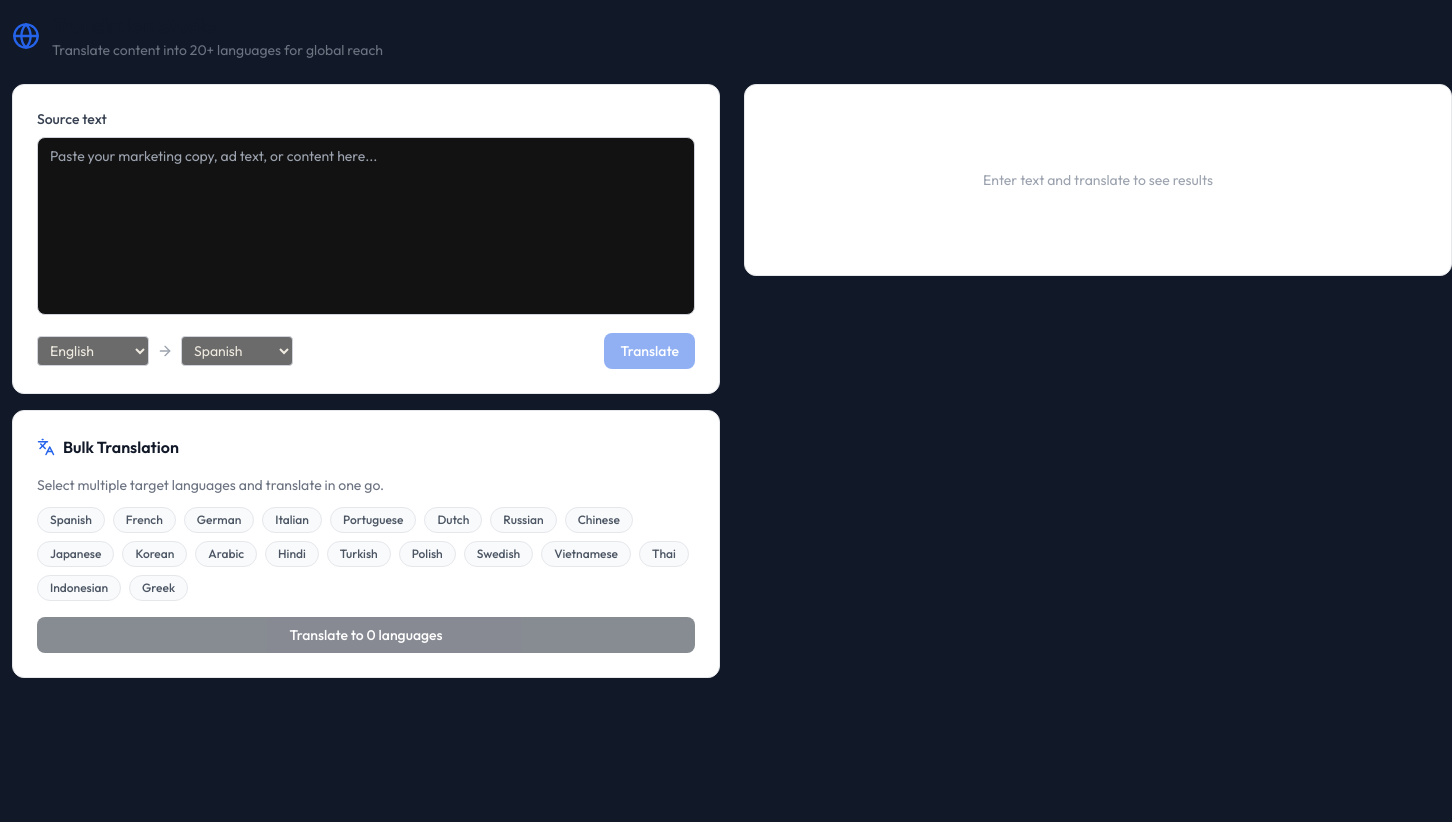
Test: visible studio failures › bulk translation errors are visible and keep selected languages for retry
Type "Keep this marketing copy" into the text box with placeholder "Paste your marketing copy, ad text, or content here..." at [366, 226], box [37, 137, 695, 315]
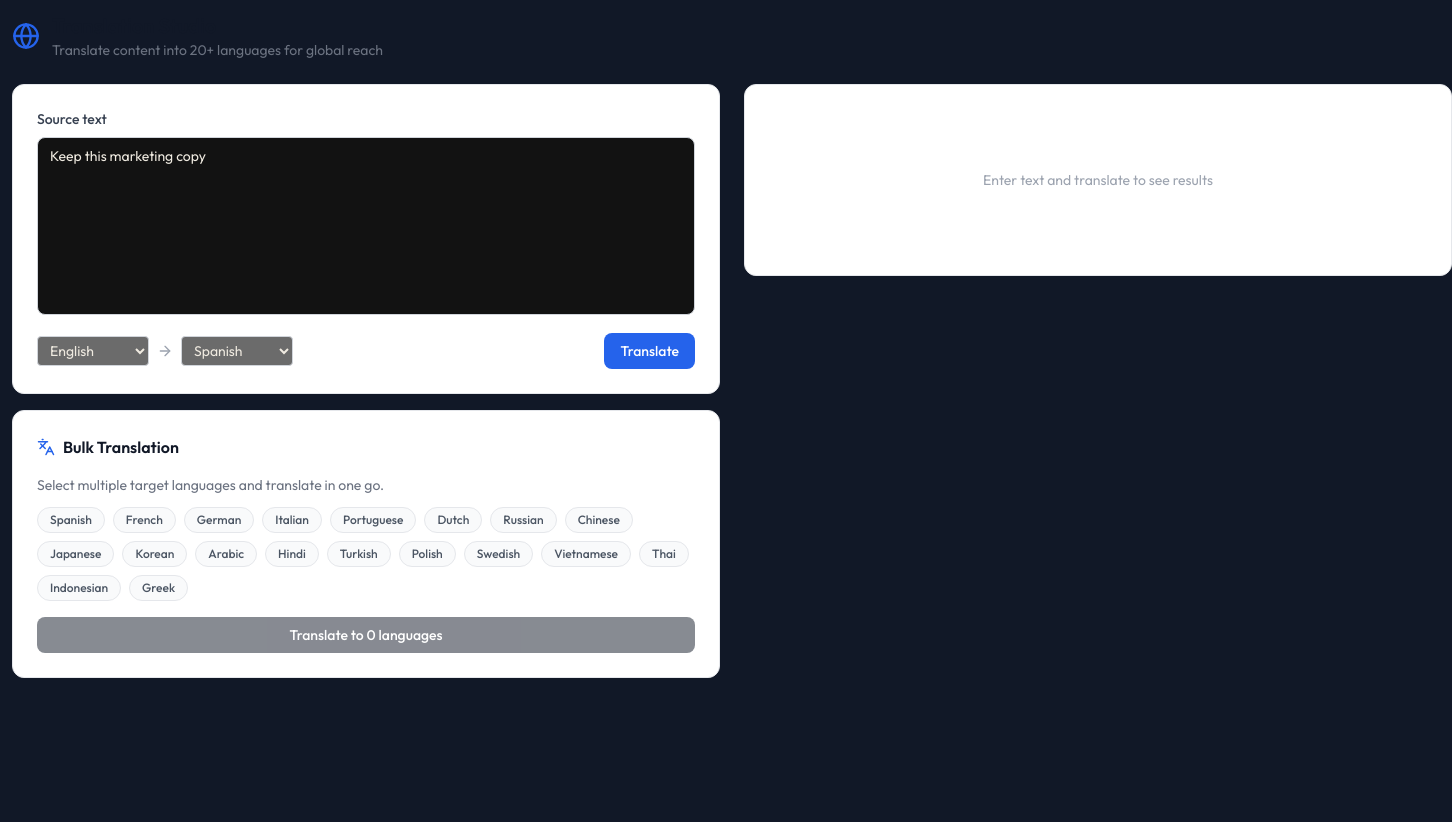
Click the button "Spanish" at [71, 520], box [37, 507, 105, 533]
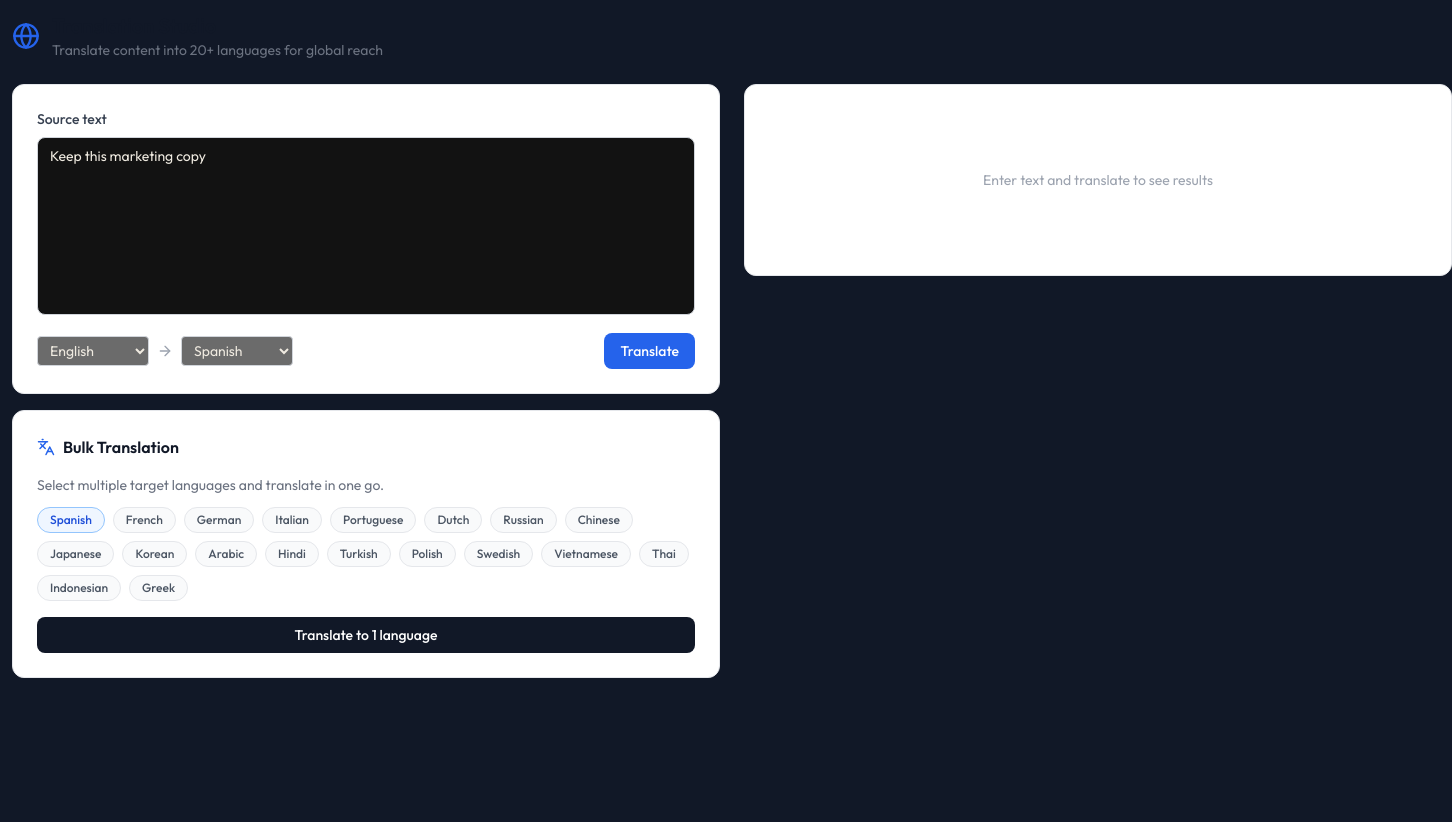
Click the button "Translate to 1 language" at [366, 635], box [37, 617, 695, 653]
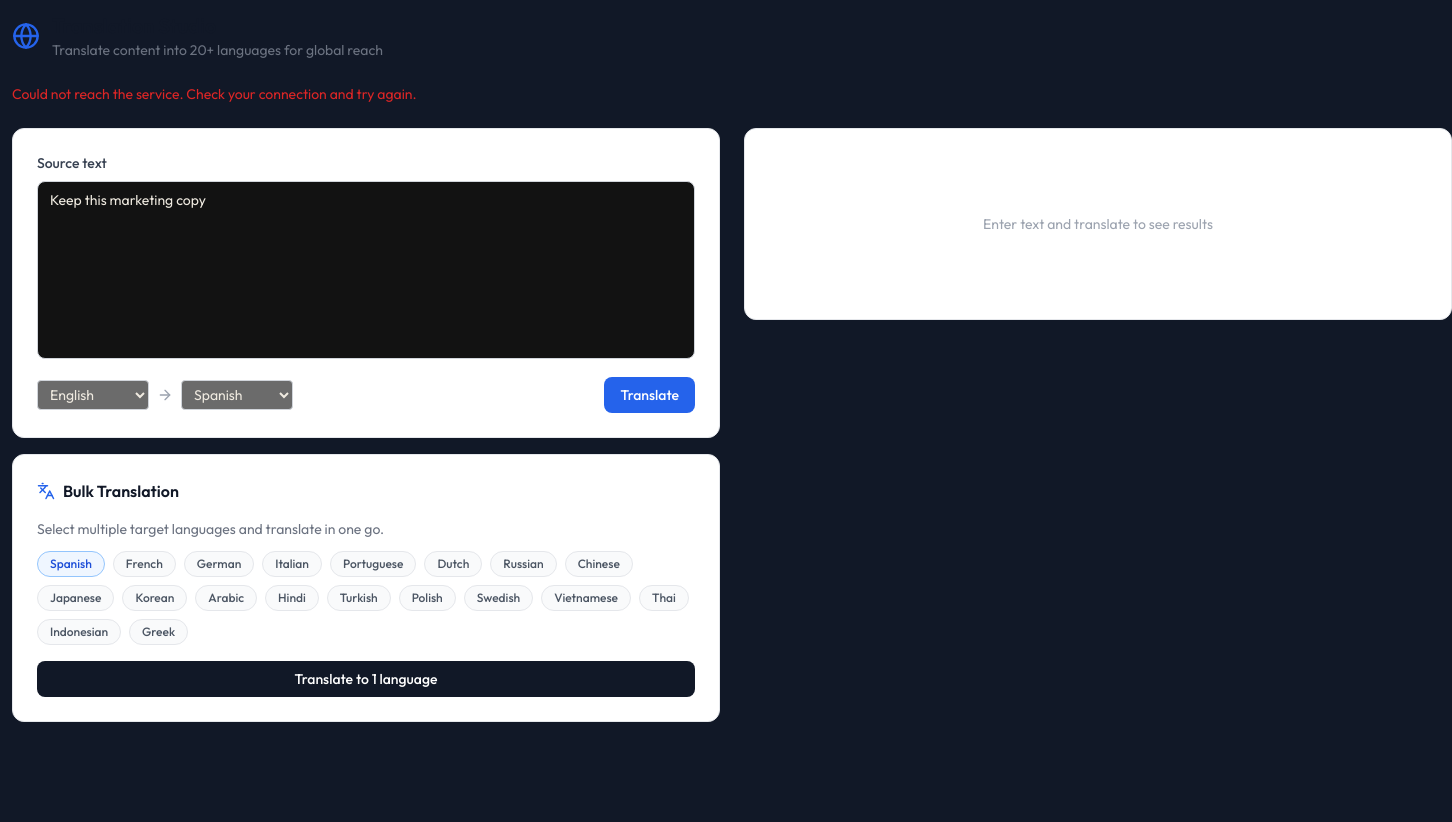
Expected: the button "Translate to 1 language" is enabled, [37, 661, 695, 697]
Expected: the message shows "connection", [12, 85, 417, 103]
